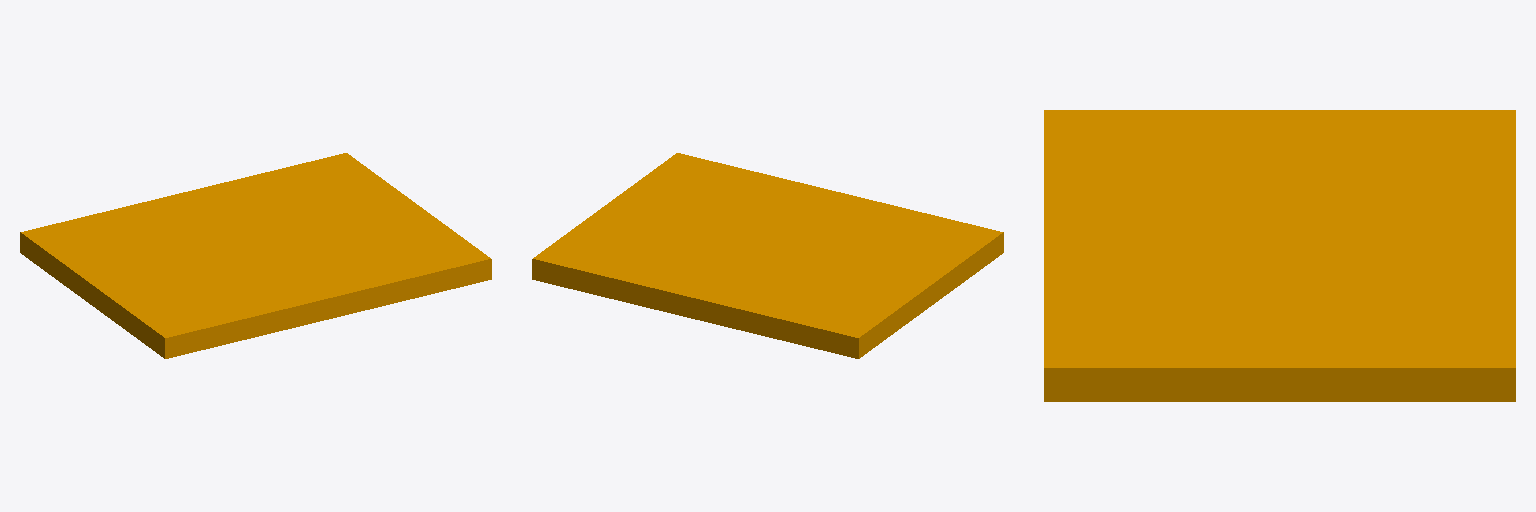
robot.urdf — robot:
<?xml version="1.0" ?>
<!-- =================================================================================== -->
<!-- |    This document was autogenerated by xacro from my_robot.xacro                 | -->
<!-- |    EDITING THIS FILE BY HAND IS NOT RECOMMENDED                                 | -->
<!-- =================================================================================== -->
<robot>
  <!-- Base Link -->
  <link name="base_link">
    <collision>
      <origin rpy="0 0 0" xyz="0 0 0"/>
      <geometry>
        <box size="0.65 0.5 0.04"/>
      </geometry>
    </collision>
    <visual>
      <origin rpy="0 0 0" xyz="0 0 0"/>
      <geometry>
        <box size="0.65 0.5 0.04"/>
      </geometry>
      <material name="orange"/>
    </visual>
    <inertial>
      <origin rpy="0 0 0" xyz="0 0 0"/>
      <mass value="1.0"/>
      <inertia ixx="0.020966666666666665" ixy="0.0" ixz="0.0" iyy="0.03534166666666667" iyz="0.0" izz="0.05604166666666667"/>
    </inertial>
  </link>
</robot>

--- What the picture shows (computed from the rendered views, not written in the file) ---
The picture shows the robot from 3 angles, left to right: view 1: azimuth 30°, elevation 25°; view 2: azimuth 150°, elevation 25°; view 3: azimuth 270°, elevation 25°; orthographic projection.
Robot: robot — 1 links, 0 joints (none); root link base_link; default pose: all joints at 0.
Visible links, largest first — view 1: base_link; view 2: base_link; view 3: base_link.
Boxes of the visible links, bbox=[...] form: base_link: bbox=[20, 153, 491, 358]; base_link: bbox=[532, 153, 1003, 358]; base_link: bbox=[1044, 110, 1515, 401].
Bounding box of the posed robot: 0.65 × 0.5 × 0.04 m (x, y, z).
Geometry: primitives only (box / cylinder / sphere), no mesh files.